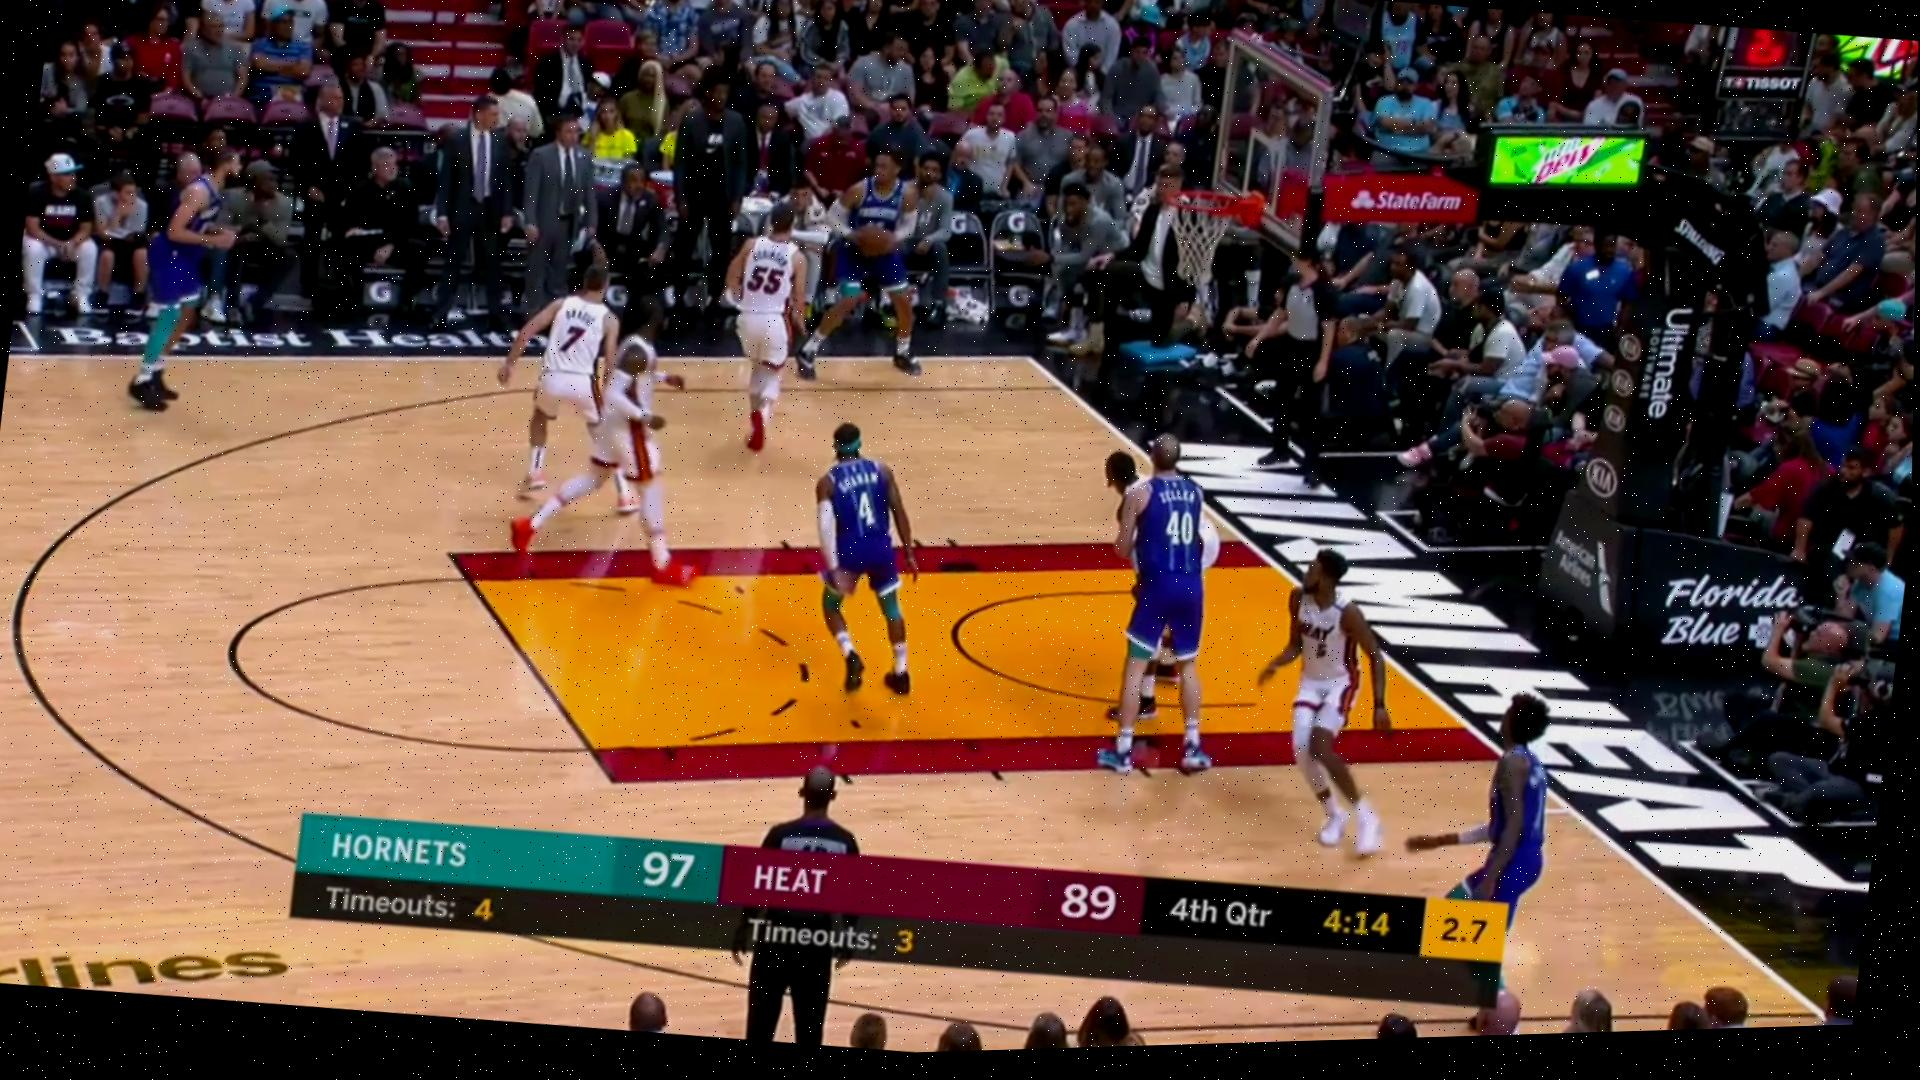no_foul: (1069, 433, 1242, 760)
